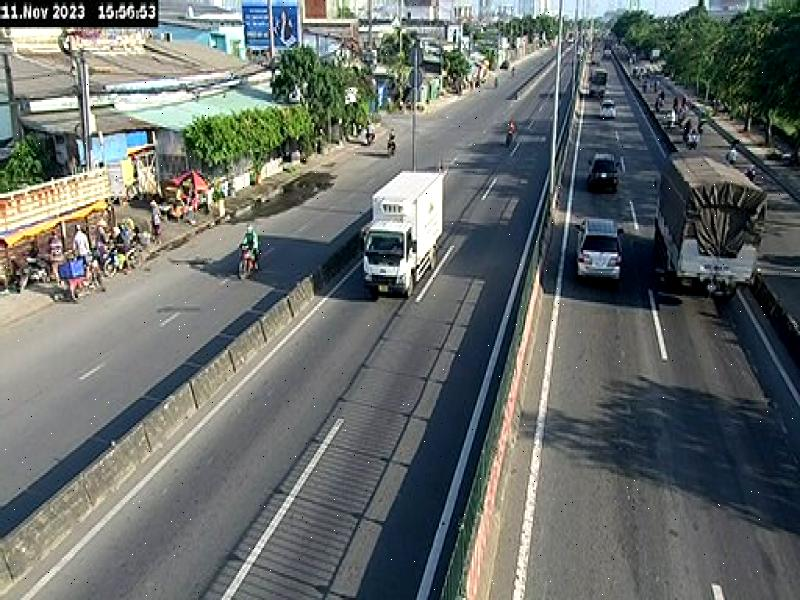truck: (652, 154, 765, 304), (360, 167, 444, 301)
